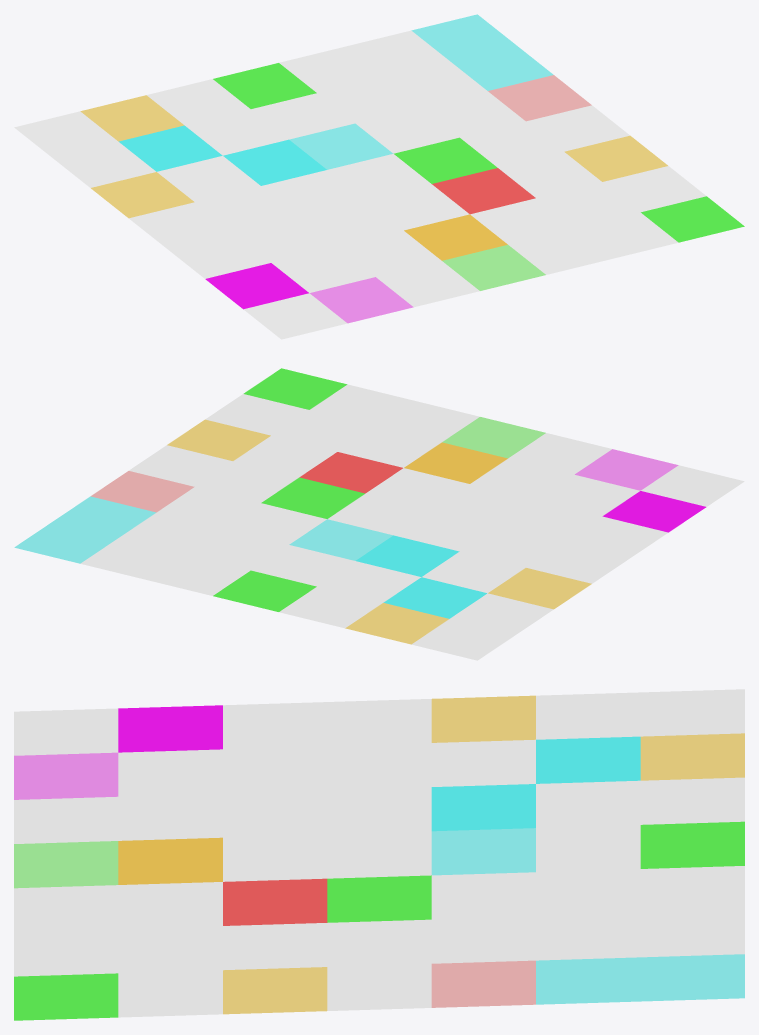
Rendered from disco_floor.glb.
3 renders of one model, top to bottom at view 1: azimuth 30°, elevation 25°; view 2: azimuth 150°, elevation 25°; view 3: azimuth 270°, elevation 25°, orthographic. The views are drawn at different scales.
Parts seen in each view (by area): view 1: disco_floor; view 2: disco_floor; view 3: disco_floor.
Part boxes in pixels (x1,y1,x2,y2): disco_floor: (14,14,744,339); disco_floor: (14,368,744,660); disco_floor: (14,689,744,1020).
Size of the model in its own units: 1.12 by 0.0378 by 1.12.
1 material, 1 textured.
